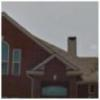chimneys: (67, 34, 79, 58)
